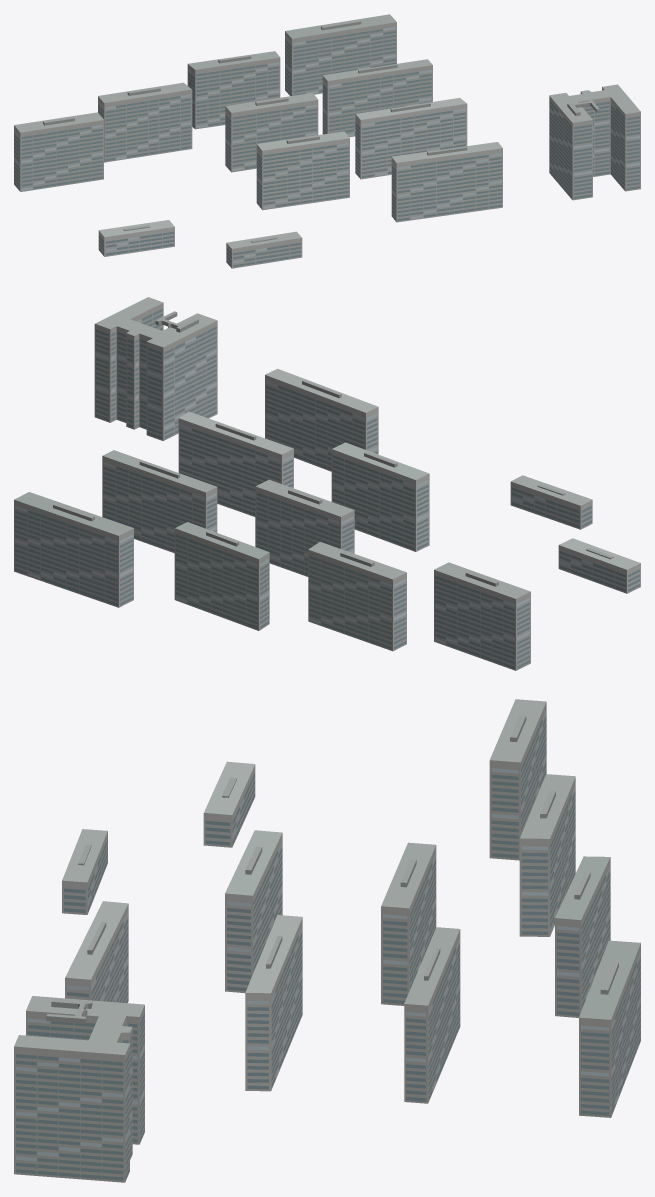
Rendered from apt-a15805115.glb.
The picture shows the model from 3 angles, top to bottom: view 1: azimuth 30°, elevation 25°; view 2: azimuth 150°, elevation 25°; view 3: azimuth 270°, elevation 25°; orthographic projection. The views are drawn at different scales.
Visible parts, largest first — view 1: apt-a15805115; view 2: apt-a15805115; view 3: apt-a15805115.
Part boxes in pixels (x1,y1,x2,y2): apt-a15805115: [14, 14, 640, 268]; apt-a15805115: [14, 297, 640, 670]; apt-a15805115: [14, 699, 640, 1182].
Size of the model in its own units: 388 by 62 by 265.
